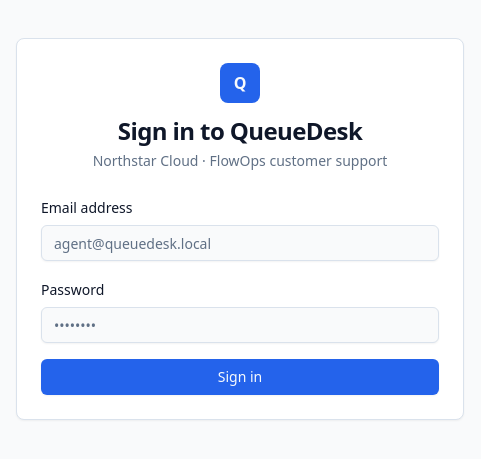
LoginPage › displays validation errors when submitted empty
Click the button "Sign in".
click(240, 377)  # box [41,359,439,395]
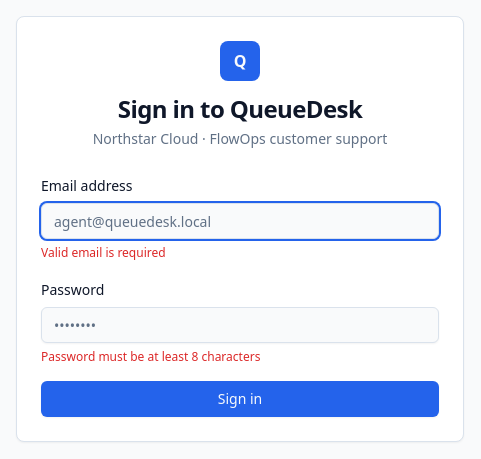
Expected: the text "Valid email is required" is shown, [41,244,166,261]
Expected: the text "Password must be at least 8 characters" is shown, [41,348,260,365]
